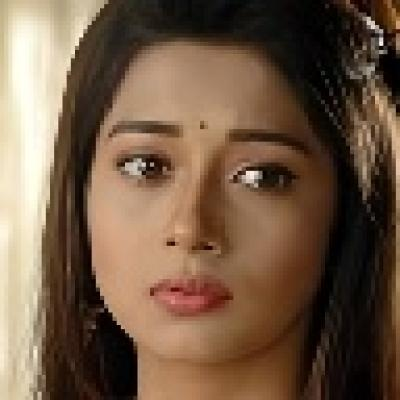sad: (80, 36, 336, 356)
